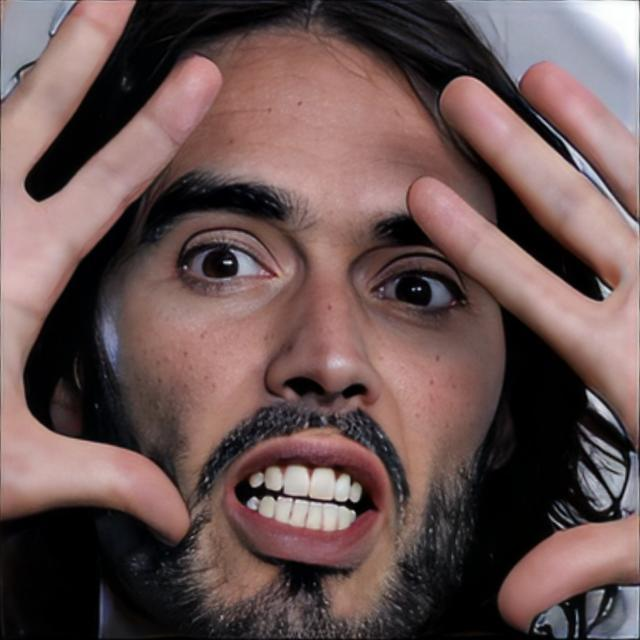surprise: (98, 7, 511, 640)
